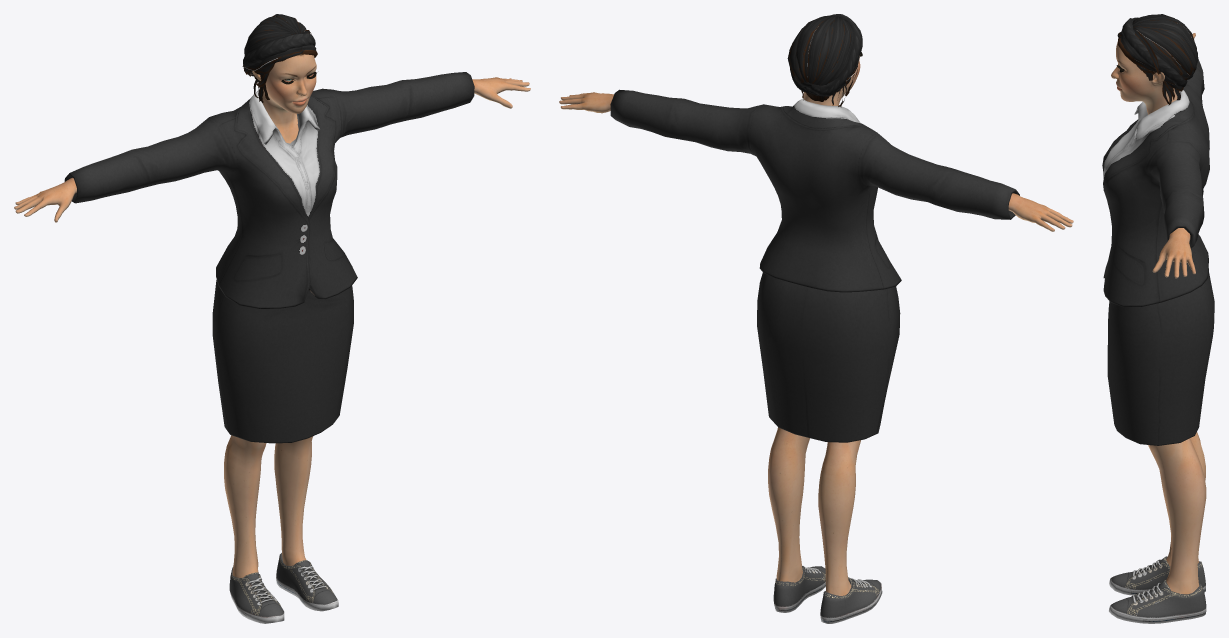
The model's file is camareira game.obj.
3 renders of one model, left to right at view 1: azimuth 30°, elevation 25°; view 2: azimuth 150°, elevation 25°; view 3: azimuth 270°, elevation 25°, orthographic.
Parts seen in each view (by area): view 1: Tops, Bottoms, Body, Shoes, Hair; view 2: Tops, Bottoms, Body, Hair, Shoes; view 3: Tops, Bottoms, Body, Hair, Shoes.
Boxes of the visible parts, left/top/right/bottom form: Tops: left=64, top=72, right=474, bottom=308; Bottoms: left=212, top=280, right=353, bottom=443; Body: left=14, top=54, right=530, bottom=577; Shoes: left=229, top=553, right=338, bottom=623; Hair: left=242, top=14, right=317, bottom=102; Tops: left=610, top=89, right=1019, bottom=292; Bottoms: left=757, top=272, right=900, bottom=442; Body: left=559, top=56, right=1073, bottom=595; Hair: left=787, top=14, right=862, bottom=107; Shoes: left=773, top=565, right=882, bottom=623; Tops: left=1102, top=59, right=1209, bottom=307; Bottoms: left=1107, top=273, right=1214, bottom=445; Body: left=1111, top=33, right=1206, bottom=594; Hair: left=1117, top=14, right=1198, bottom=105; Shoes: left=1109, top=556, right=1206, bottom=623.
Size of the model in its own units: 159 by 172 by 29.96.
